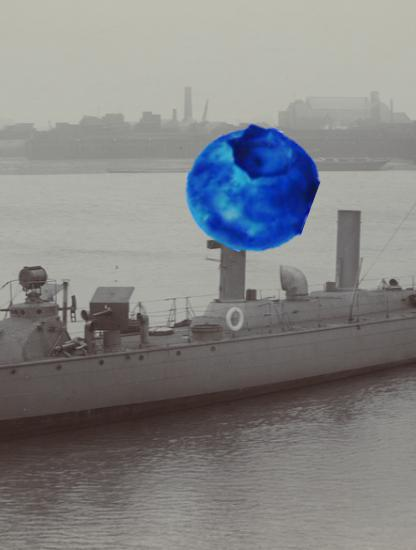Huckleberry: (186, 124, 314, 252)
